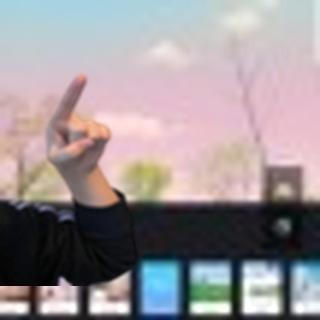IRRITATED: (42, 71, 112, 176)
